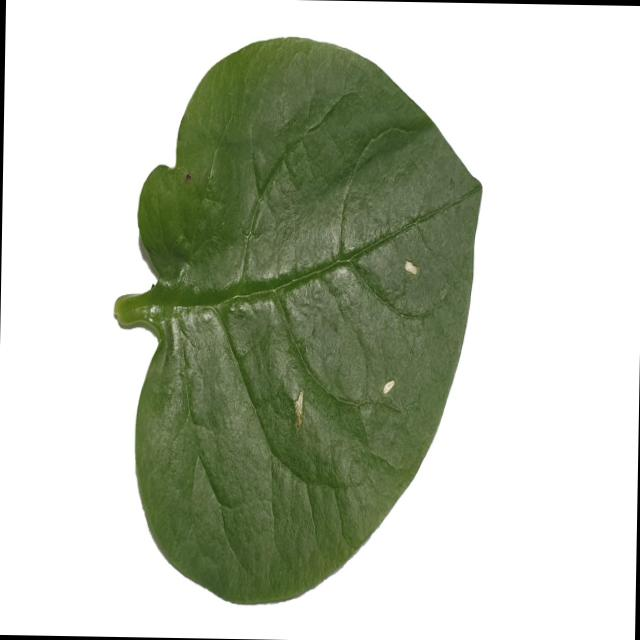Medicinal-Basale: (112, 30, 484, 608)
